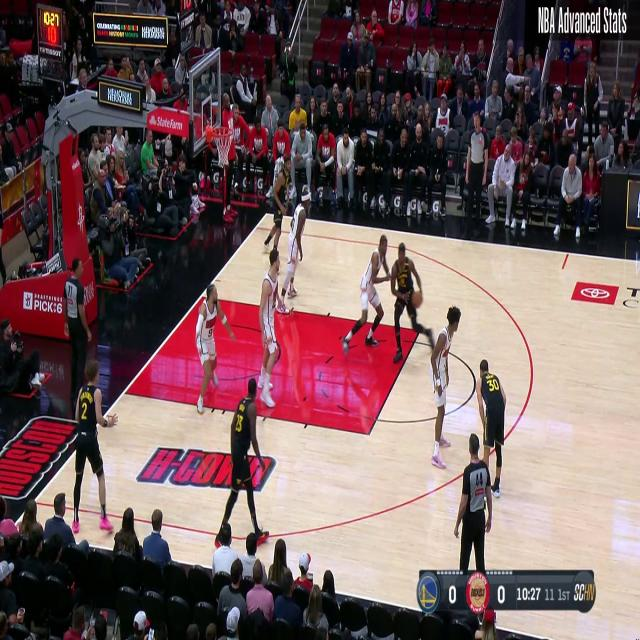ball: (410, 283, 423, 317), (411, 286, 424, 310)
judge: (452, 432, 490, 568), (63, 253, 97, 400), (64, 251, 93, 412)
player: (221, 378, 263, 546), (74, 376, 118, 520), (342, 234, 390, 360), (194, 283, 238, 416), (428, 304, 460, 458), (394, 247, 433, 368), (258, 248, 286, 406), (477, 360, 507, 498), (260, 149, 294, 261), (281, 188, 308, 303)
